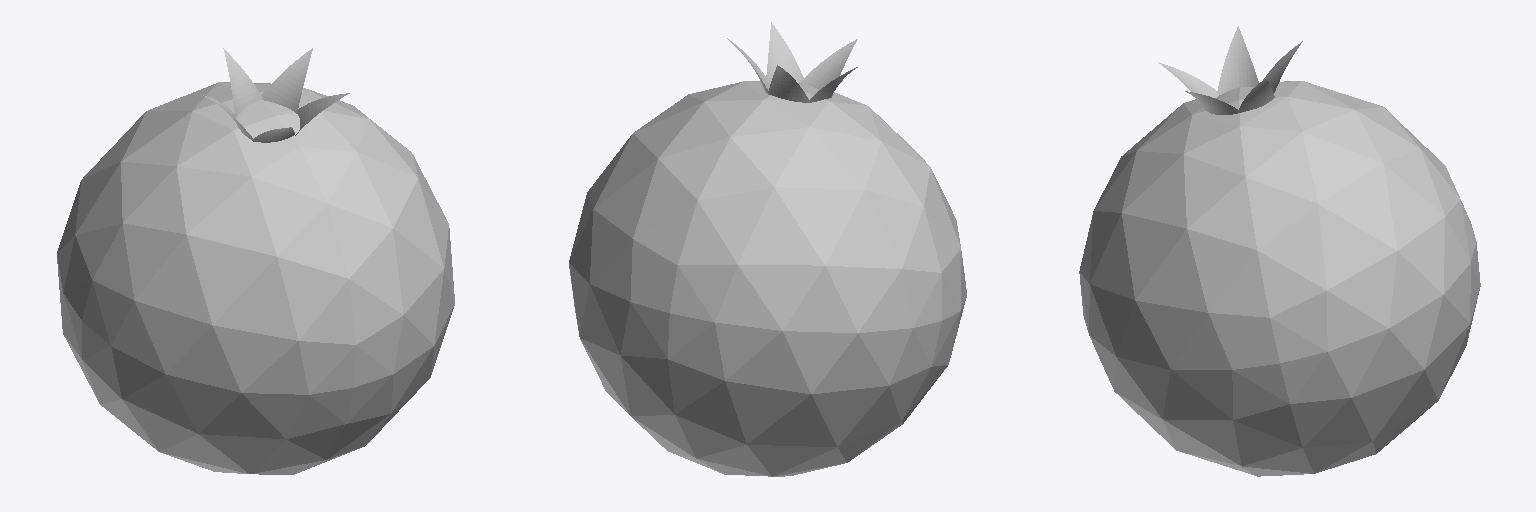
The model's file is orange.obj.
3 views of the same model, side by side, from view 1: azimuth 30°, elevation 25°; view 2: azimuth 150°, elevation 25°; view 3: azimuth 270°, elevation 25° (orthographic).
Parts seen in each view (by area): view 1: Group_001; view 2: Group_001; view 3: Group_001.
Boxes of the visible parts, box(x1,y1,x2,y2) form: Group_001: box(57, 48, 454, 474); Group_001: box(569, 22, 966, 476); Group_001: box(1079, 26, 1480, 476).
Size of the model in its own units: 2377 by 2671 by 2376.